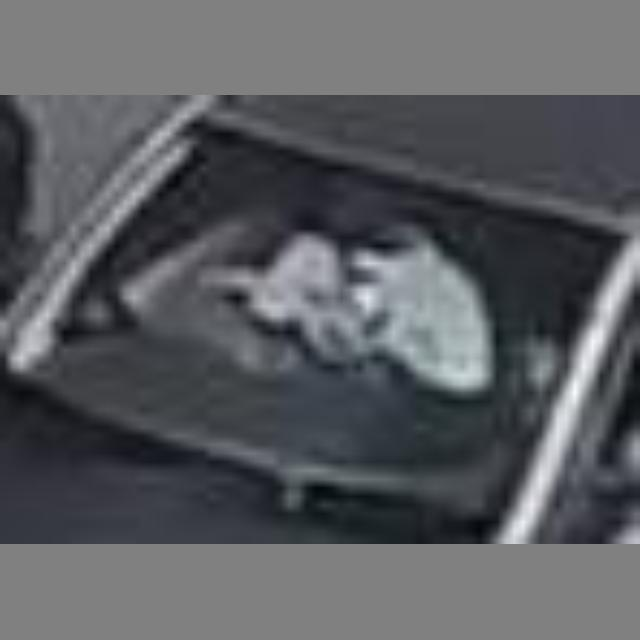pakai: (225, 190, 502, 450)
